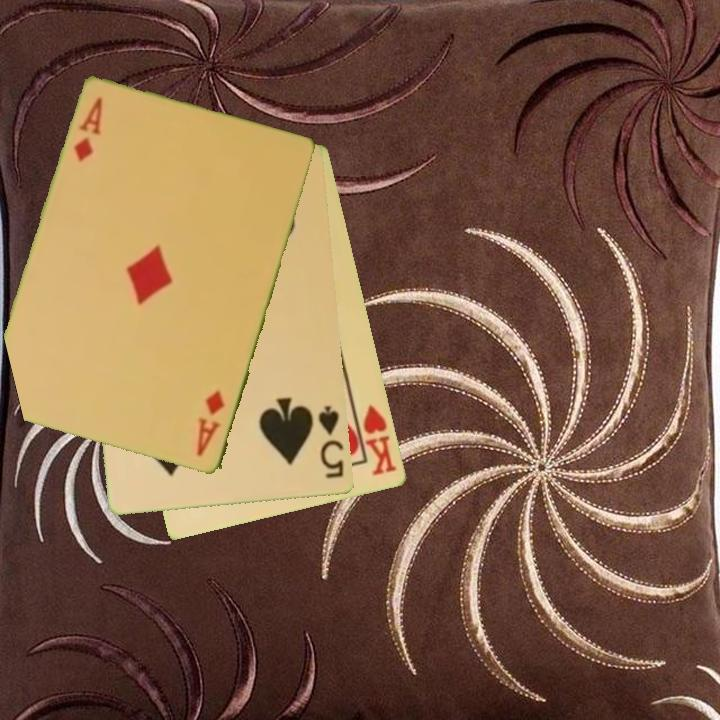5s: (315, 402, 347, 482)
Ad: (70, 94, 106, 166), (193, 386, 228, 460)
Kh: (351, 401, 400, 479)
